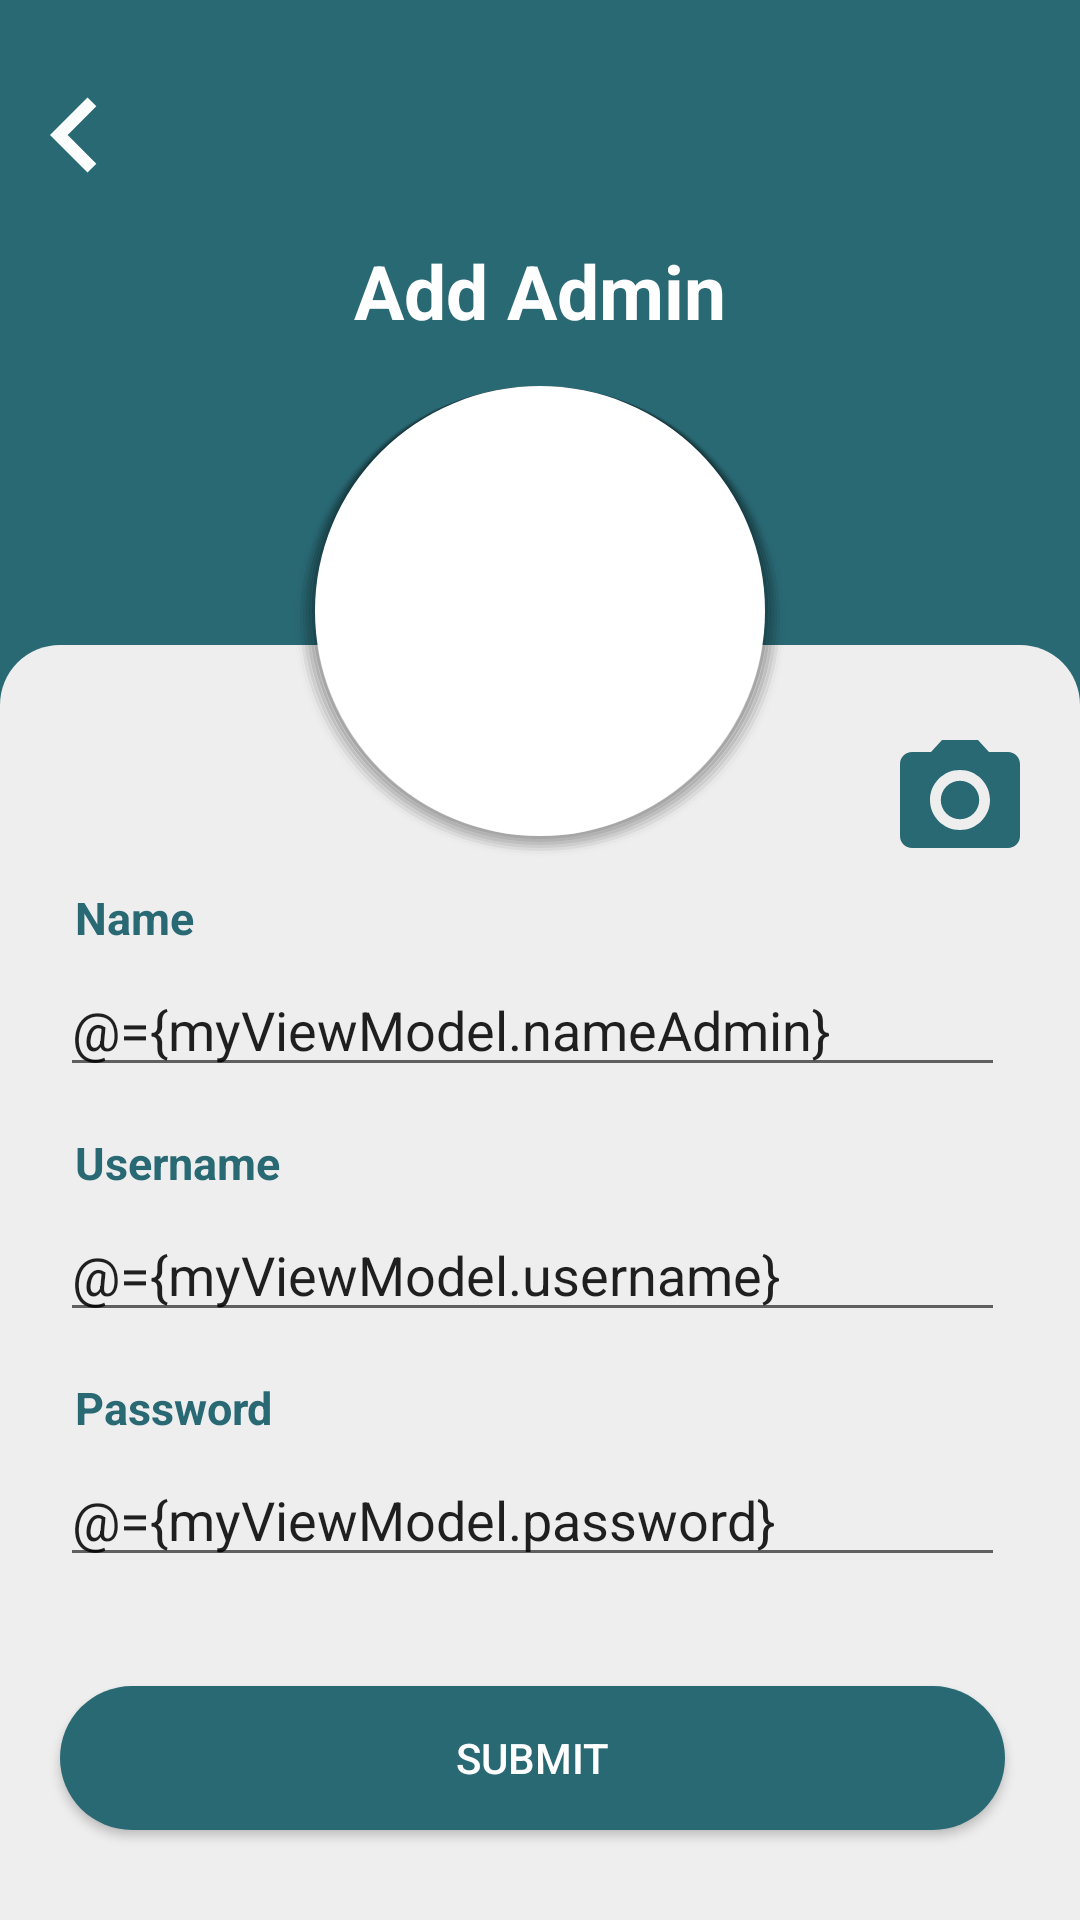

Where to tap for icons on this 1080px×1920px app screen, as [x,y]:
add camera: [960,794]
back: [73,135]
